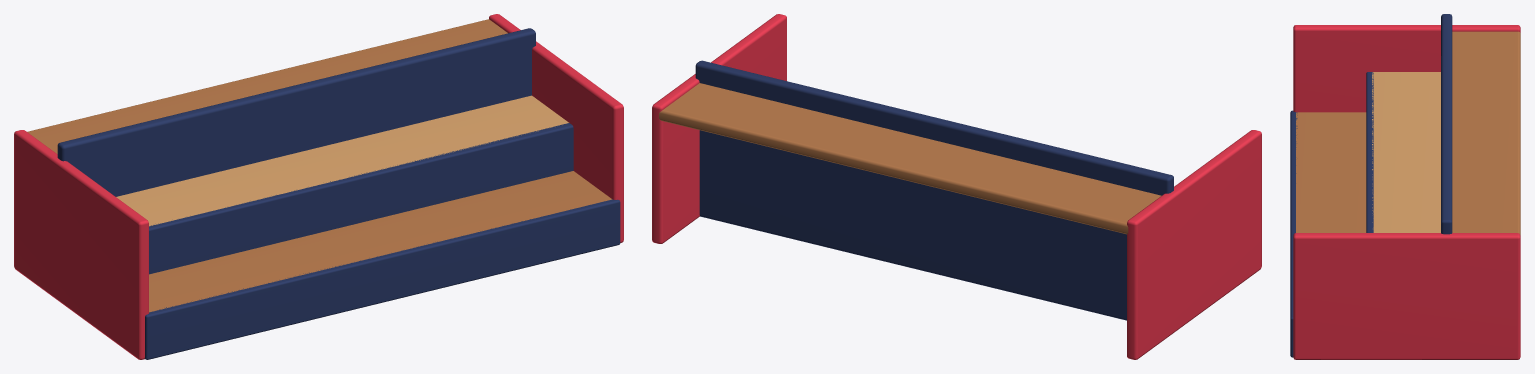
The model's file is sky_bleachers.glb.
3 views of the same model, side by side, from view 1: azimuth 30°, elevation 25°; view 2: azimuth 150°, elevation 25°; view 3: azimuth 270°, elevation 25° (orthographic). The views are drawn at different scales.
Parts seen in each view (by area): view 1: Bleachers; view 2: Bleachers; view 3: Bleachers.
Part boxes in pixels (x1,y1,x2,y2): Bleachers: (14,14,623,359); Bleachers: (652,14,1261,359); Bleachers: (1290,14,1520,359).
Bounding box in the file's own units: 5.32 × 1.61 × 2.43.
